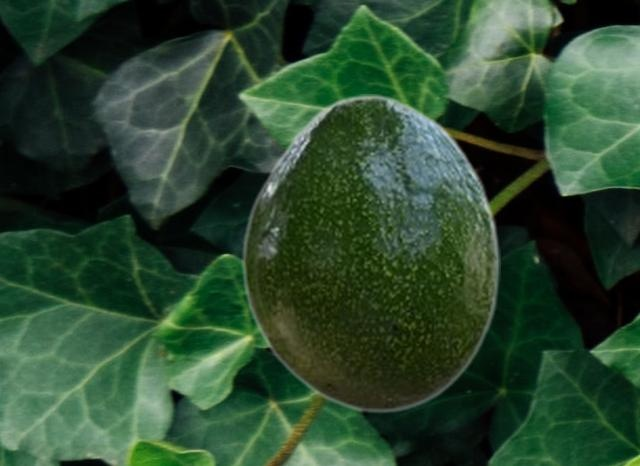avocado: (241, 94, 499, 413)
